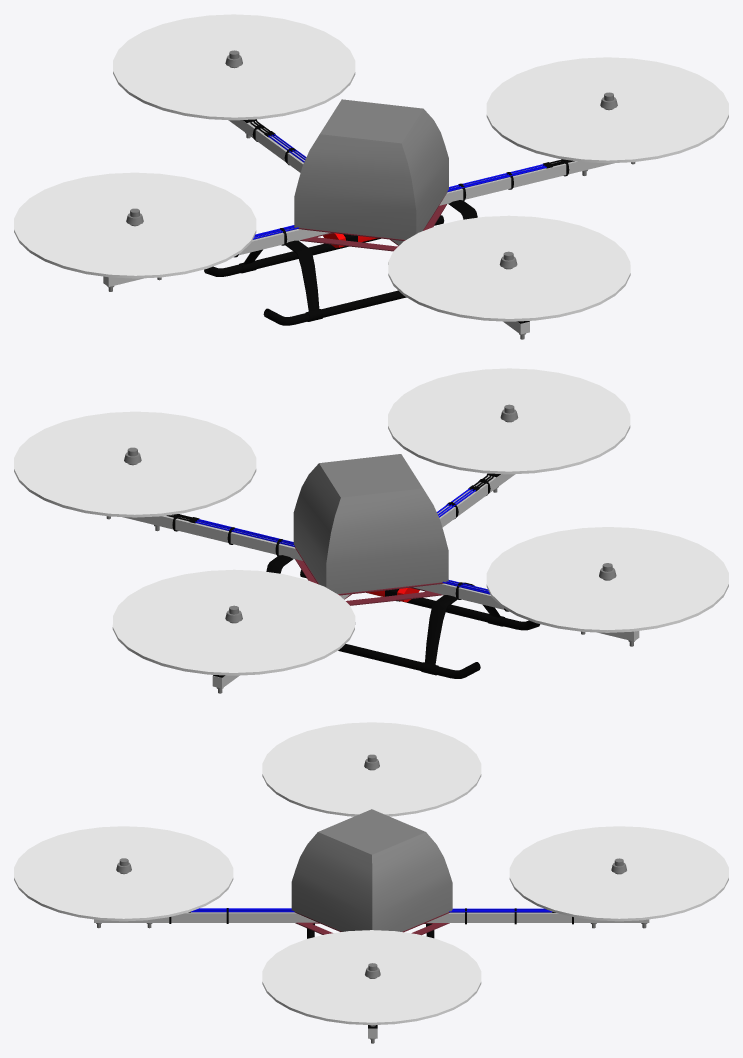
File: quad4b.dae
3 views of the same model, one above another, from view 1: azimuth 30°, elevation 25°; view 2: azimuth 150°, elevation 25°; view 3: azimuth 270°, elevation 25° (orthographic). The views are drawn at different scales.
Parts seen in each view (by area): view 1: cylinder (×4), box (×4), lSkidF, polyline; view 2: cylinder (×4), box (×4), lSkidF, polyline; view 3: cylinder (×4), box (×3).
Boxes of the visible parts, x1,y1,x2,y2 form: cylinder (×4): [14, 14, 728, 321]; box (×4): [103, 99, 614, 286]; lSkidF: [204, 200, 477, 325]; polyline: [300, 204, 446, 251]; cylinder (×4): [14, 368, 728, 675]; box (×4): [122, 454, 639, 641]; lSkidF: [266, 555, 539, 678]; polyline: [295, 559, 443, 605]; cylinder (×4): [14, 722, 728, 1025]; box (×3): [94, 809, 649, 931].
Bounding box in the file's own units: 0.9813 × 0.2084 × 0.9869.
